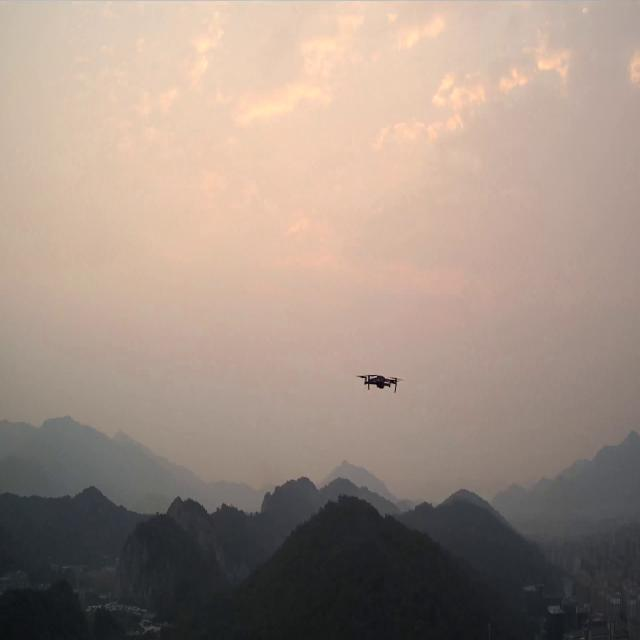UAV: (356, 368, 401, 394)
